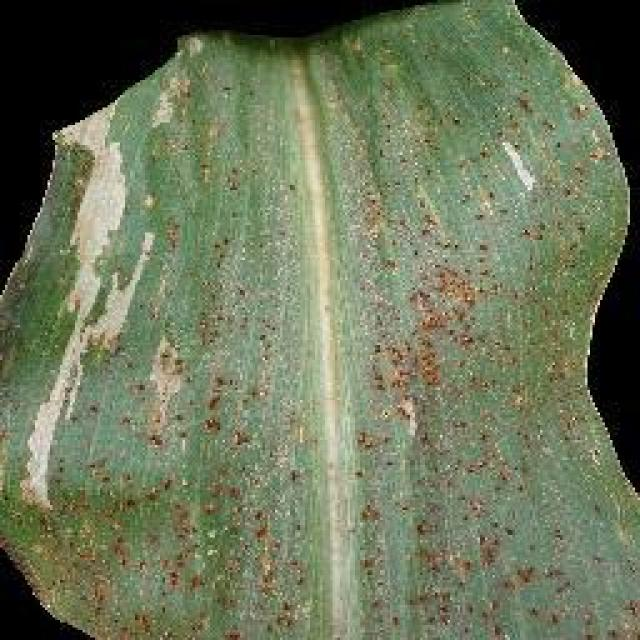Corn Common Rust: (107, 103, 595, 617)
